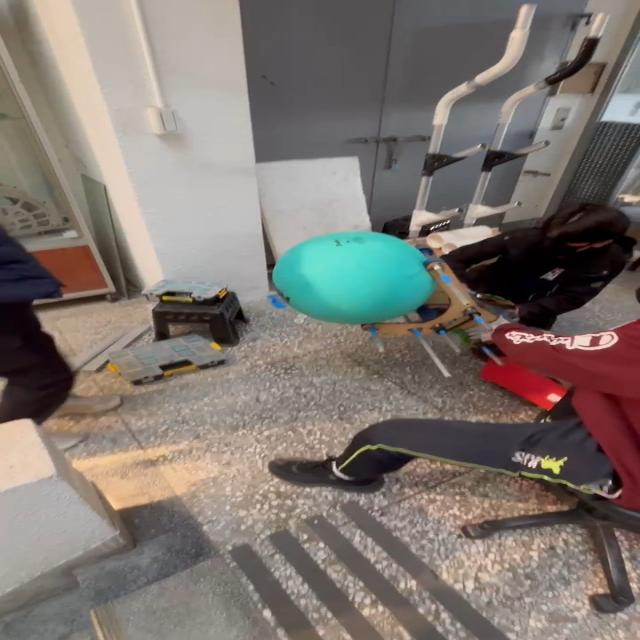ALGAE: (270, 230, 438, 326)
